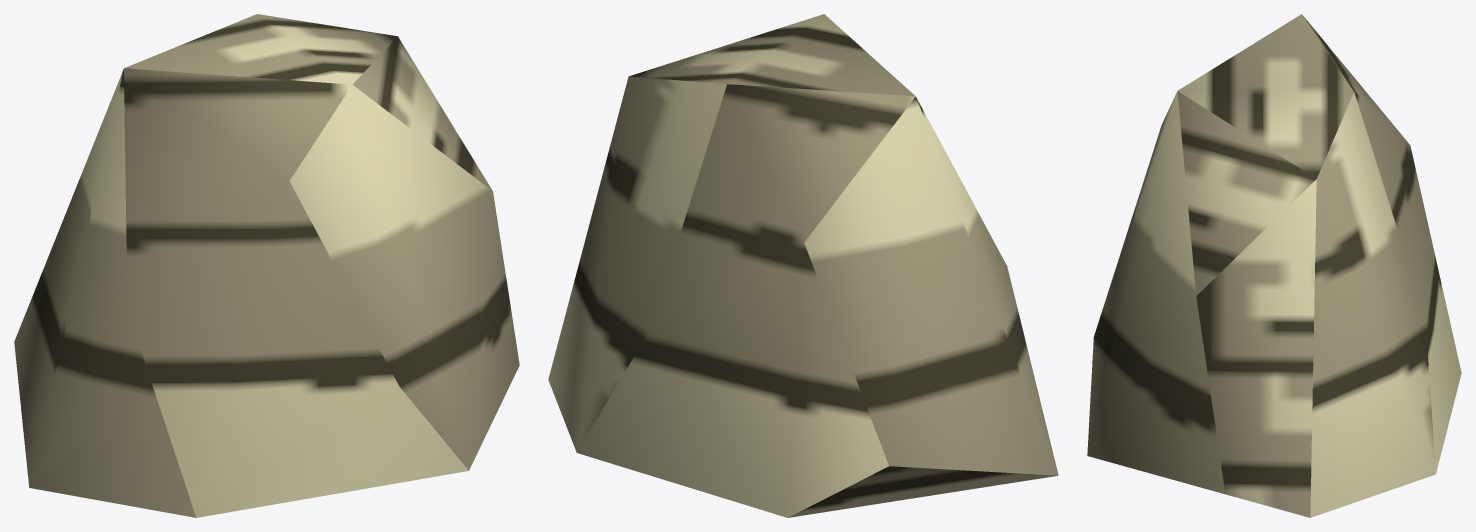
Rendered from boulder_v2.fbx.
3 renders of one model, left to right at view 1: azimuth 30°, elevation 25°; view 2: azimuth 150°, elevation 25°; view 3: azimuth 270°, elevation 25°, orthographic. The views are drawn at different scales.
Parts seen in each view (by area): view 1: prop; view 2: prop; view 3: prop.
Boxes of the visible parts, x1=… form: prop: x1=14, y1=14, x2=519, y2=517; prop: x1=548, y1=14, x2=1058, y2=517; prop: x1=1087, y1=14, x2=1461, y2=517.
Bounding box in the file's own units: 0.6492 × 0.475 × 0.4734.
